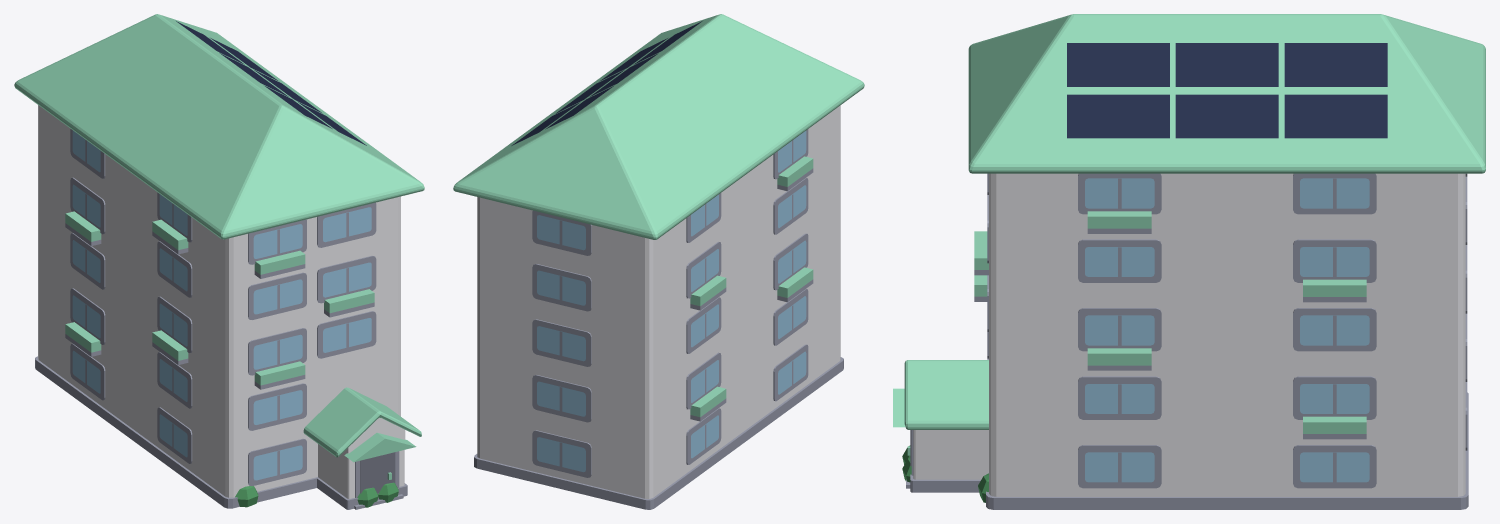
The model's file is house-1x2-5f-mansard-a-solar.glb.
The picture shows the model from 3 angles, left to right: view 1: azimuth 30°, elevation 25°; view 2: azimuth 150°, elevation 25°; view 3: azimuth 270°, elevation 25°; orthographic projection. The views are drawn at different scales.
Visible parts, largest first — view 1: house-1x2-5f-mansard-a-solar; view 2: house-1x2-5f-mansard-a-solar; view 3: house-1x2-5f-mansard-a-solar.
Part boxes in pixels (bbox=[...]): house-1x2-5f-mansard-a-solar: bbox=[14, 14, 424, 509]; house-1x2-5f-mansard-a-solar: bbox=[453, 14, 864, 509]; house-1x2-5f-mansard-a-solar: bbox=[893, 14, 1485, 509].
Bounding box in the file's own units: 1 × 1.68 × 2.04.
1 material, 1 textured.
